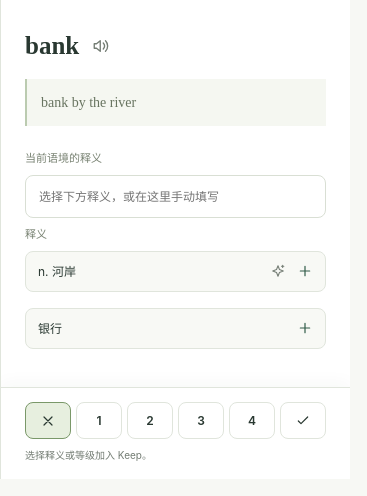
AI and dictionary candidates immediately select meaning through the atomic auto-Keep command
The width and height of the screenshot is (367, 496).
Check: the number of buttons with class "candidate-ai-icon" is 1, box [266,257,290,285]
Step 1. Click the button with class "candidate" showing "n. 河岸" → (57, 271), box [25,251,326,292]
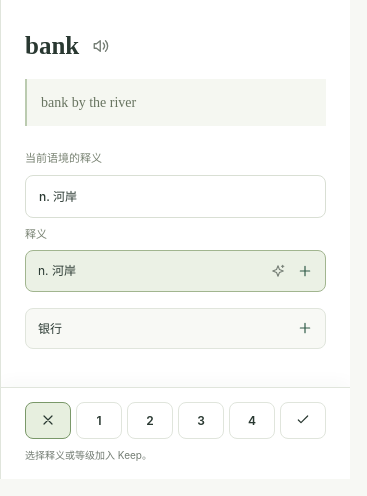
Check: the text box named "当前语境释义" holds "n. 河岸", box [25,175,326,218]
Step 2. Click the button with class "candidate" showing "银行" → (50, 328), box [25,308,326,349]
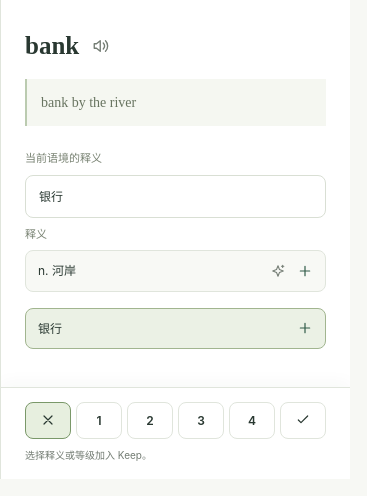
Check: the text box named "当前语境释义" holds "银行", box [25,175,326,218]
